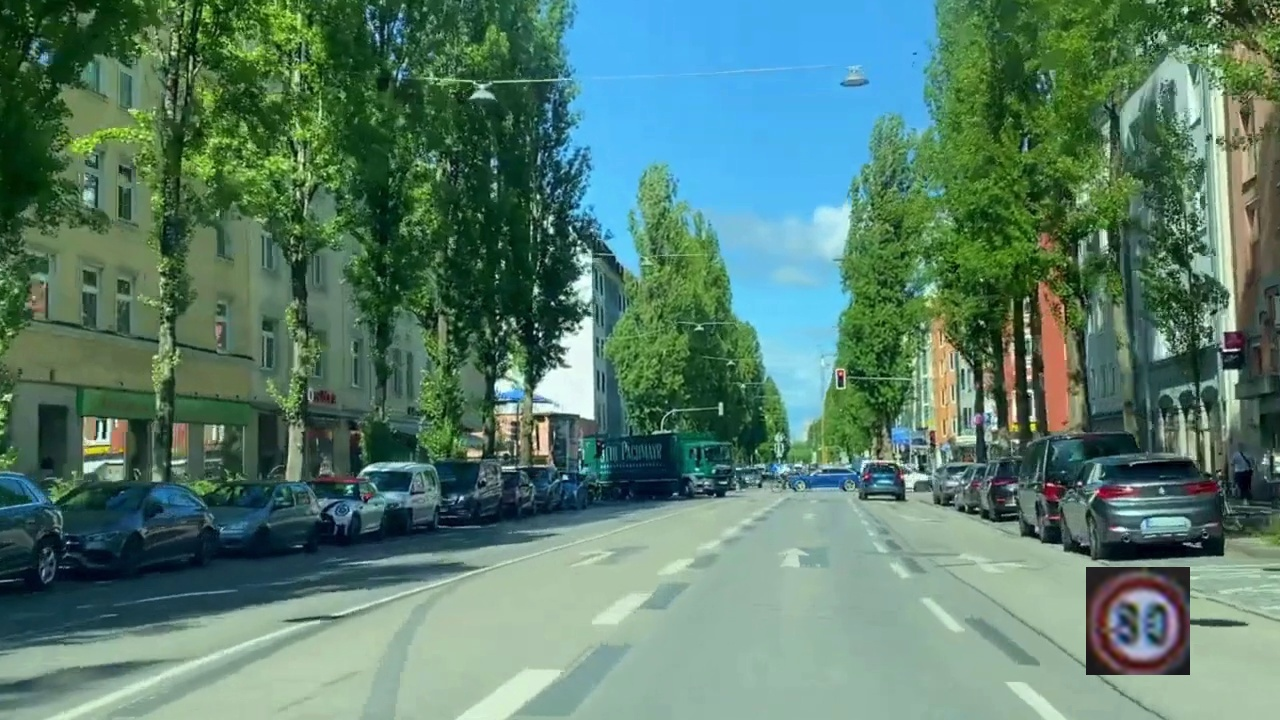Speed 80: (1086, 567, 1190, 675)
